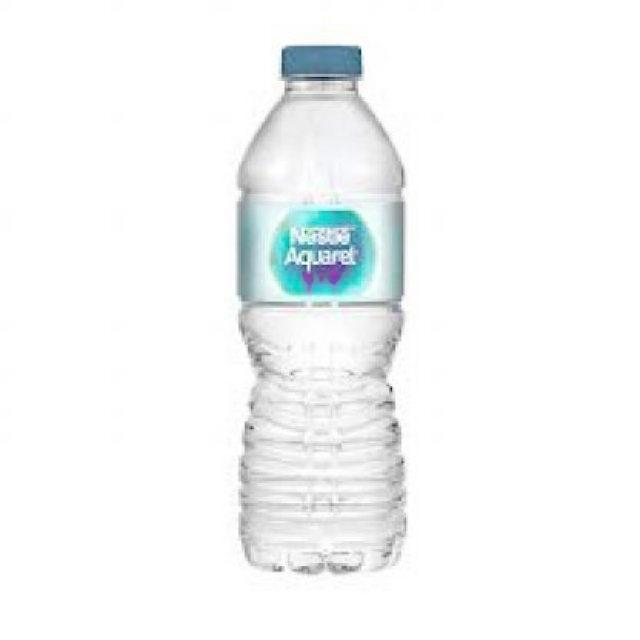bottle: (236, 44, 408, 577)
